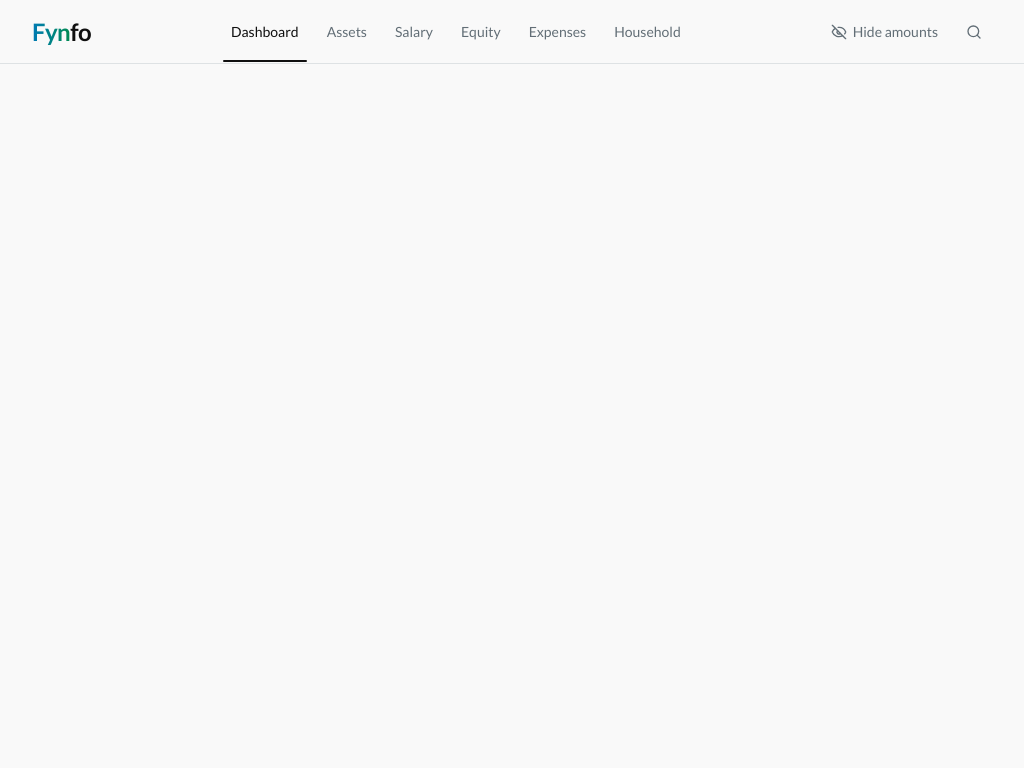
Scenario: opens an explicit personal record search rather than duplicating navigation links
Click the button named "Search records".
click(974, 32)  # box [956, 14, 992, 50]
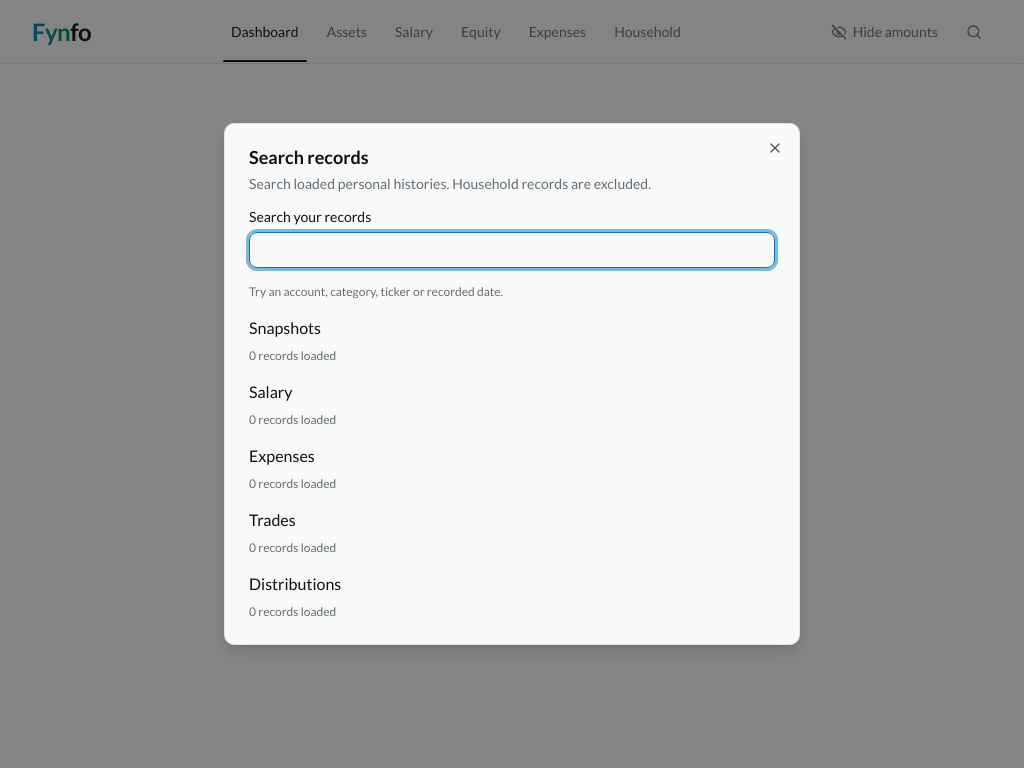
Result: the dialog "Search records" is shown at [224, 123, 800, 645]
Result: the field labelled "Search your records" is shown at [249, 232, 775, 268]
